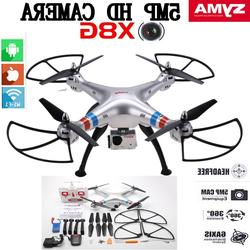drone: (5, 53, 250, 178), (85, 182, 153, 212)
